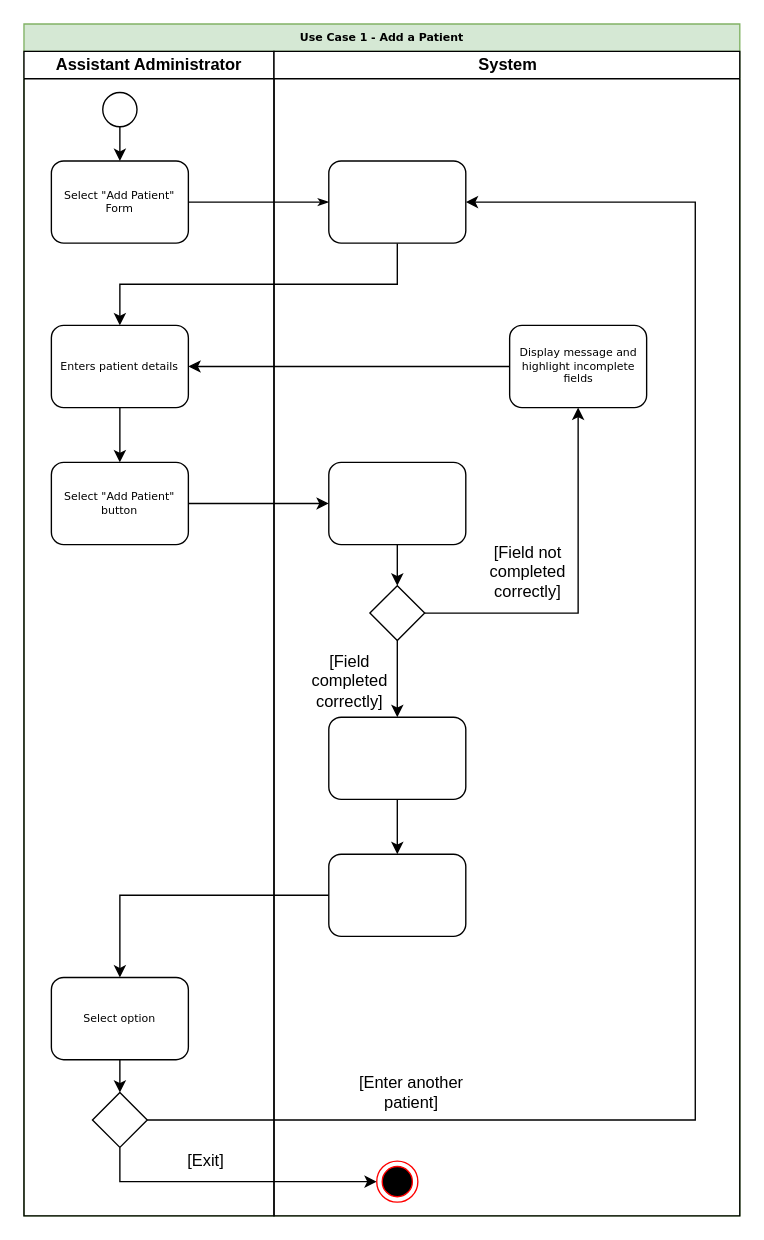
Image size: 764x1240. Some labels were removed from this diagram. The centre of each missing label's shape, as x and y in pixels:
Checks field completion: (396,503)
Creates patient record: (396,894)
Display "Add Patient" Form: (396,201)
Generates unique patient ID: (396,757)
